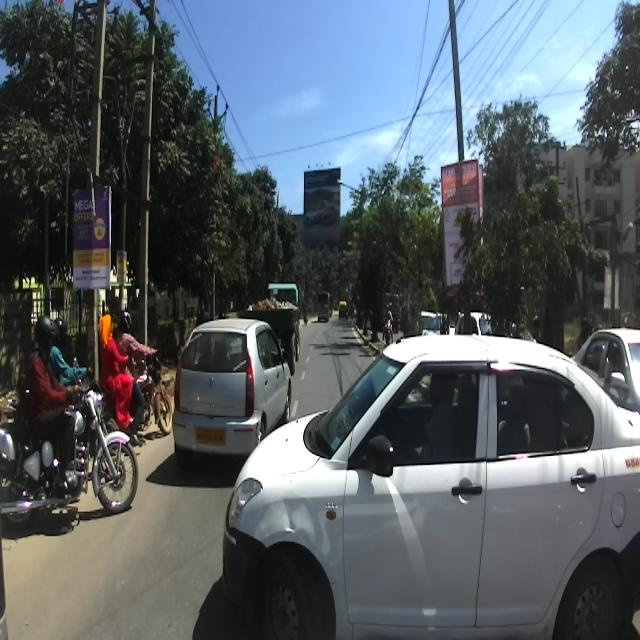car ahead at: (235, 335, 640, 640), (180, 306, 294, 462)
motorcycle ahead at: (4, 392, 139, 534)
